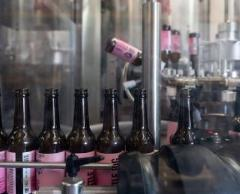glass: (0, 87, 197, 194)
